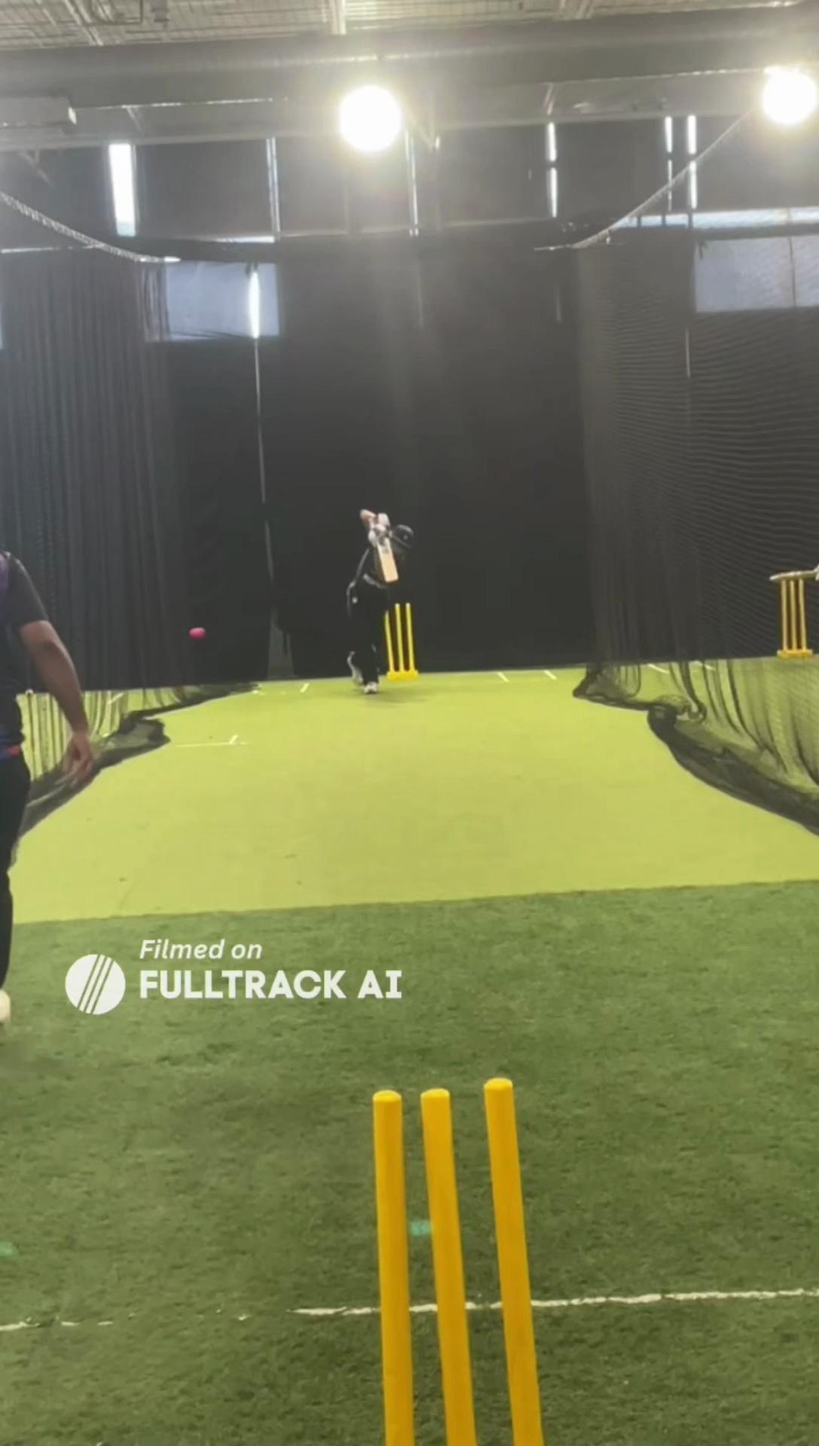ball: (190, 624, 209, 645)
